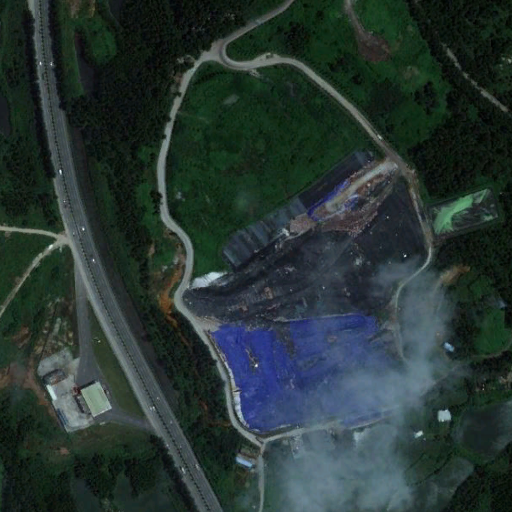lf: (183, 166, 429, 430)
